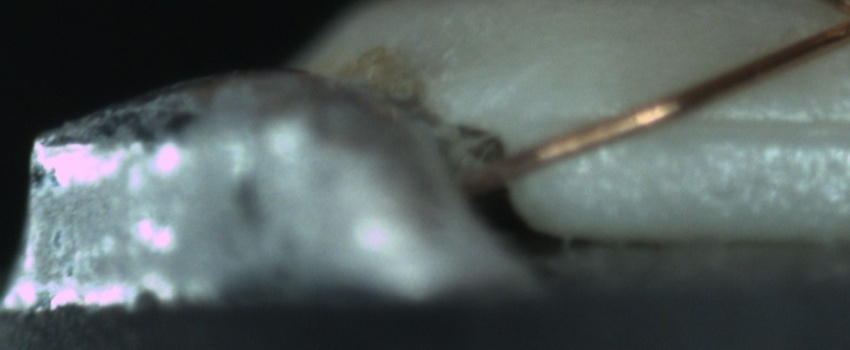DL: (635, 85, 847, 163)
